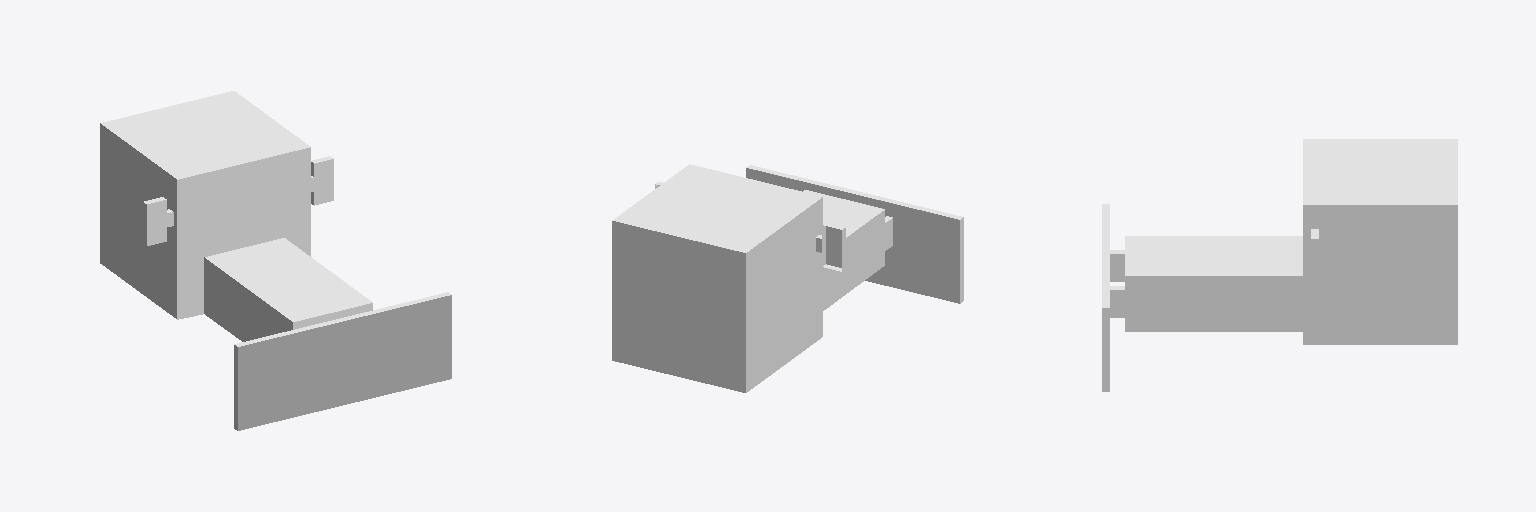
Rendered from MiniSnowplow.obj.
The picture shows the model from 3 angles: view 1: azimuth 30°, elevation 25°; view 2: azimuth 150°, elevation 25°; view 3: azimuth 270°, elevation 25°; orthographic projection.
Parts seen in each view (by area): view 1: Body; view 2: Body; view 3: Body.
Boxes of the visible parts, <box> form: Body: <box>100,91,451,430</box>; Body: <box>612,164,963,392</box>; Body: <box>1102,139,1457,391</box>.
Size of the model in its own units: 1.6 by 1.2 by 2.3.